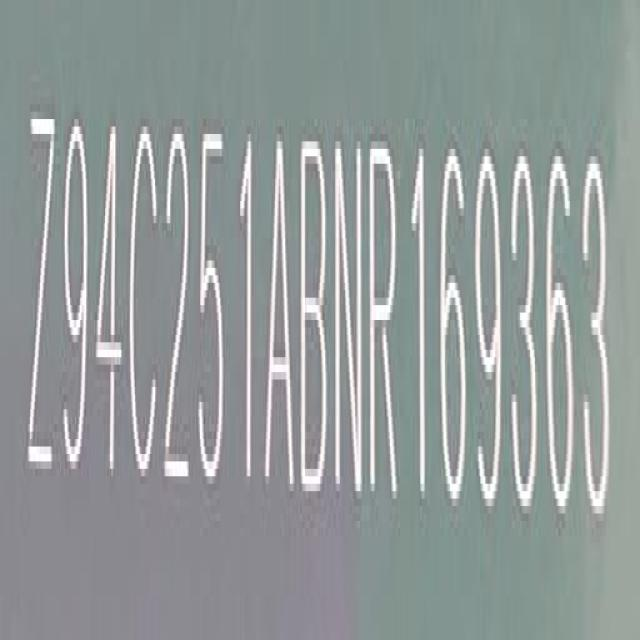1: (410, 142, 430, 512), (235, 125, 255, 495)
2: (163, 123, 196, 493)
3: (584, 158, 616, 520), (510, 150, 540, 519)
4: (96, 120, 126, 485)
5: (199, 119, 227, 491)
6: (547, 152, 577, 518), (438, 145, 467, 513)
9: (473, 149, 502, 516), (61, 116, 89, 487)
A: (266, 134, 296, 501)
B: (300, 132, 332, 497)
C: (131, 126, 162, 490)
N: (337, 133, 366, 504)
R: (368, 136, 401, 504)
Z: (26, 106, 57, 487)
